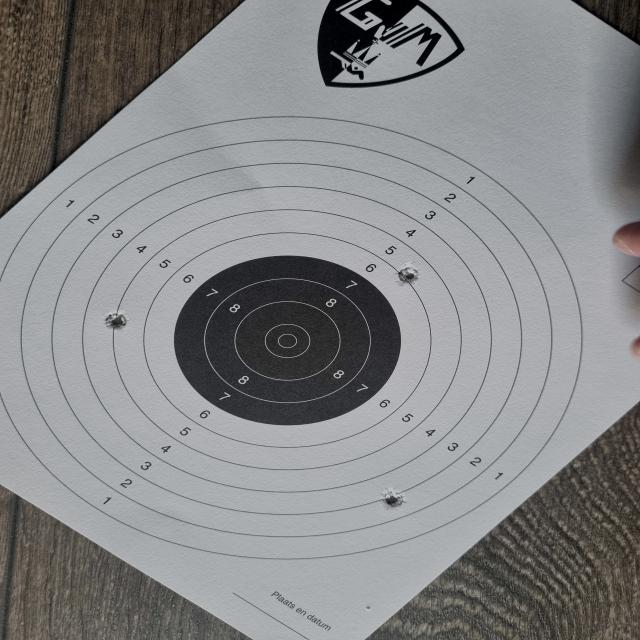3: (383, 489, 406, 508)
5: (105, 313, 127, 330)
6: (395, 267, 421, 287)
Target: (0, 115, 588, 562)
black_contour: (175, 255, 400, 426)
